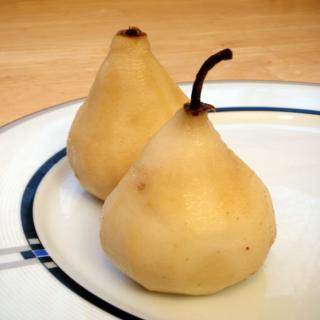Pear: (98, 103, 276, 297), (62, 26, 193, 202), (65, 29, 192, 200)
